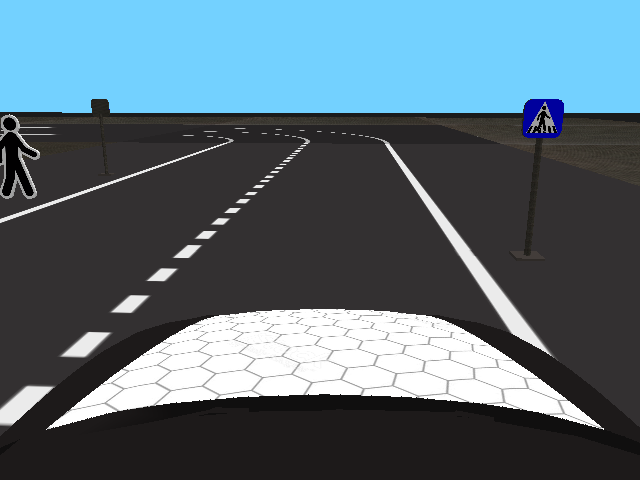pedestrian_cross: (522, 99, 564, 139)
